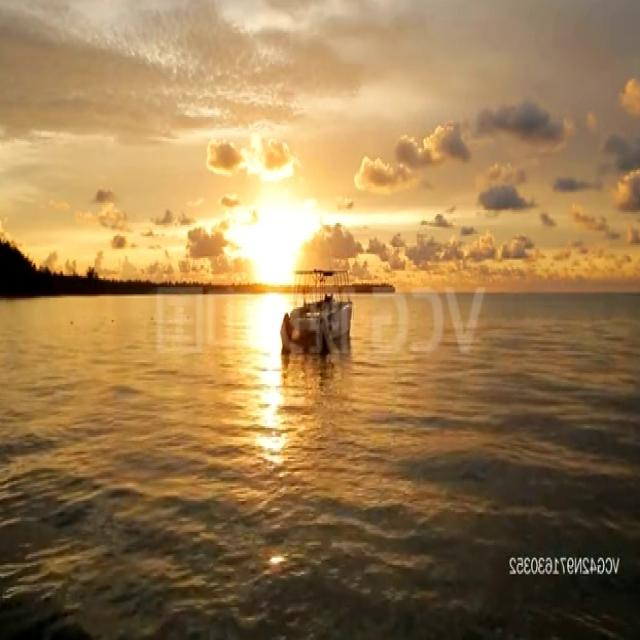houseboat: (286, 259, 356, 355)
